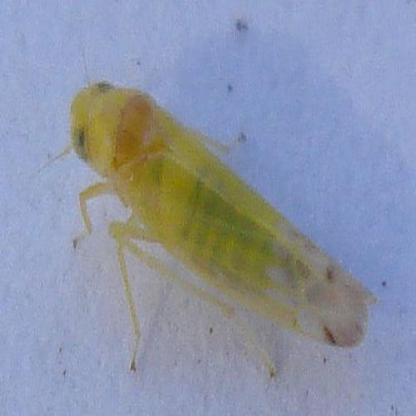green-leafhopper: (67, 82, 382, 382)
